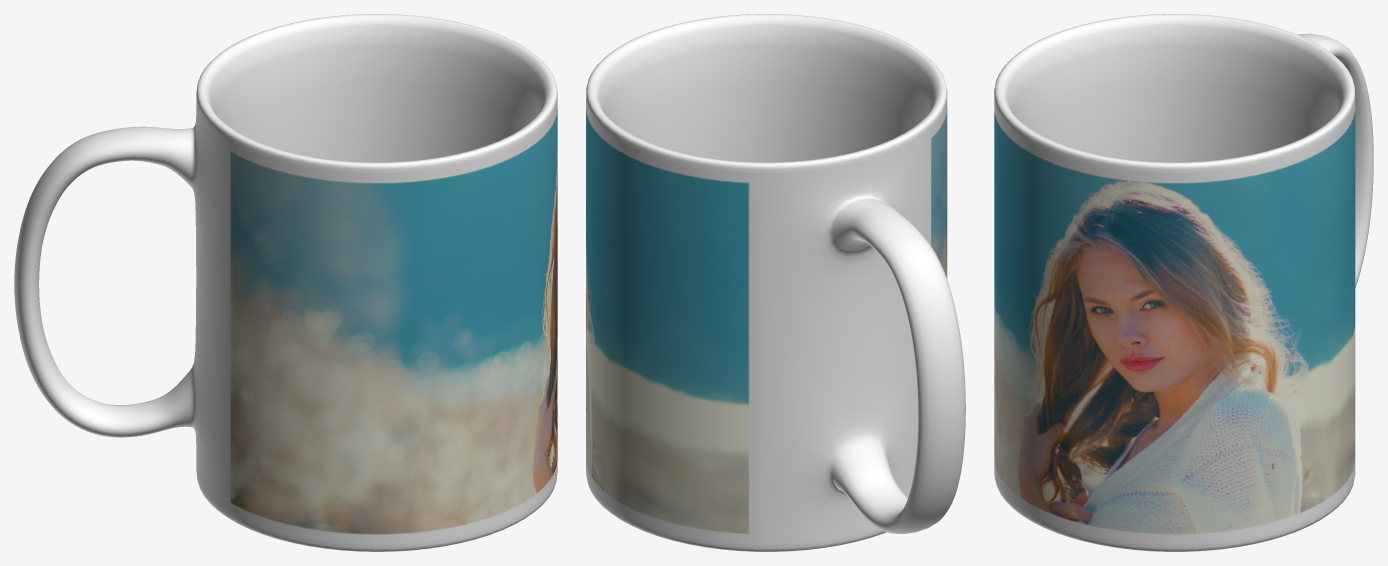
The model's file is mug.gltf.
The picture shows the model from 3 angles, left to right: view 1: azimuth 30°, elevation 25°; view 2: azimuth 150°, elevation 25°; view 3: azimuth 270°, elevation 25°; orthographic projection.
Parts seen in each view (by area): view 1: Mug Front-View; view 2: Mug Front-View; view 3: Mug Front-View.
Boxes of the visible parts, left/top/right/bottom form: Mug Front-View: left=14, top=14, right=557, bottom=551; Mug Front-View: left=586, top=14, right=965, bottom=551; Mug Front-View: left=994, top=14, right=1373, bottom=551.
Bounding box in the file's own units: 1.03 × 0.8832 × 0.7812.
1 material, 1 textured.
